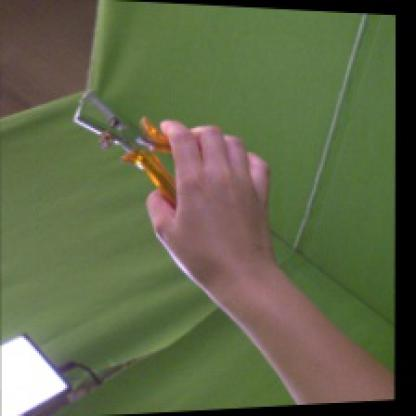Hand: (145, 119, 271, 283)
